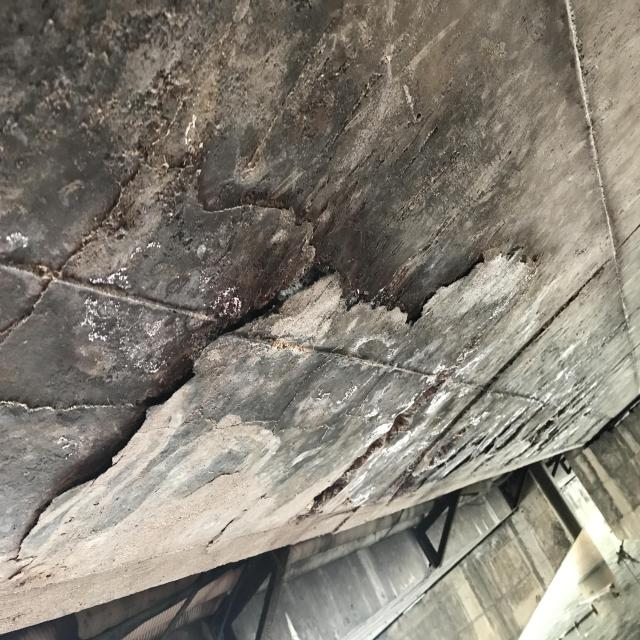concrete spalling: (294, 371, 598, 519)
